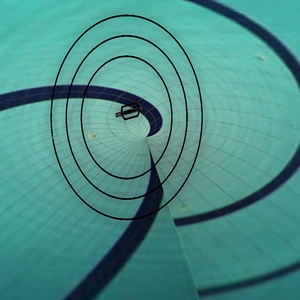circle: (35, 3, 228, 247)
submarine: (110, 92, 153, 133)
